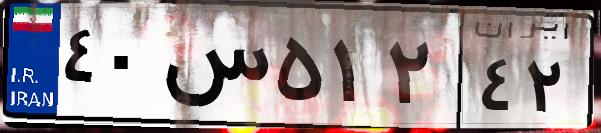0: (110, 28, 158, 98)
1: (330, 28, 385, 110)
2: (385, 28, 445, 110), (525, 38, 570, 115)
4: (57, 26, 110, 100), (475, 38, 525, 113)
5: (270, 28, 330, 110)
س: (158, 20, 270, 120)
